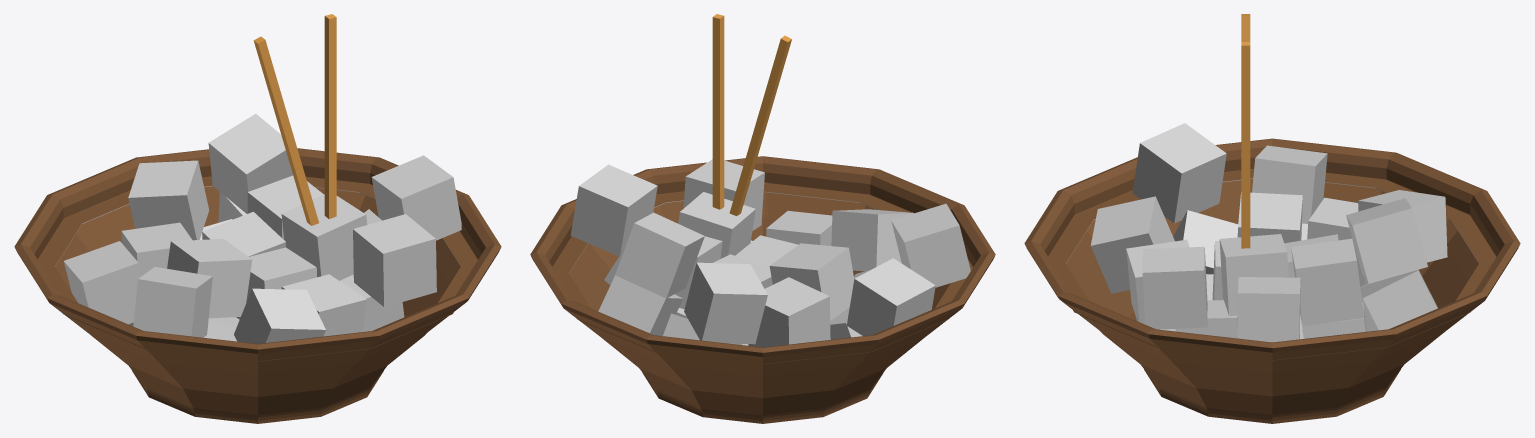
Rendered from Tofu.fbx.
The picture shows the model from 3 angles, left to right: view 1: azimuth 30°, elevation 25°; view 2: azimuth 150°, elevation 25°; view 3: azimuth 270°, elevation 25°; orthographic projection. The views are drawn at different scales.
Parts seen in each view (by area): view 1: Tofu; view 2: Tofu; view 3: Tofu.
Boxes of the visible parts, x1,y1,x2,y2 form: Tofu: (14,14,501,423); Tofu: (530,14,995,423); Tofu: (1024,14,1520,423).
Bounding box in the file's own units: 86999 × 69180 × 86999.
